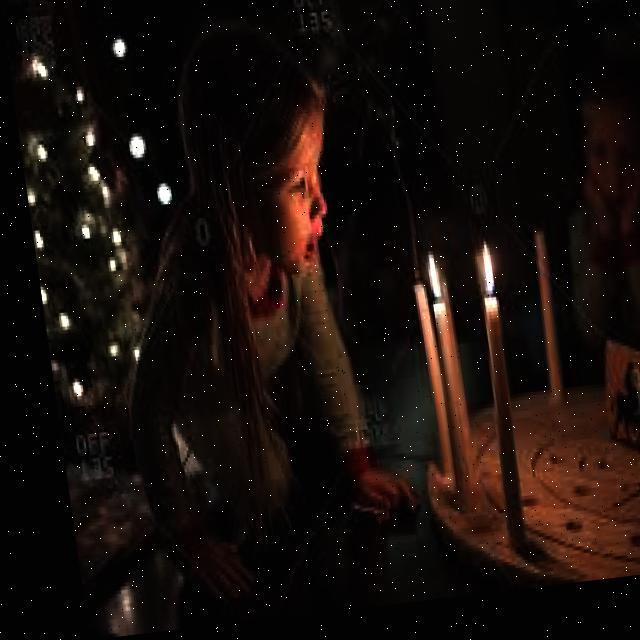Fire: (462, 244, 492, 310), (409, 254, 432, 312)
